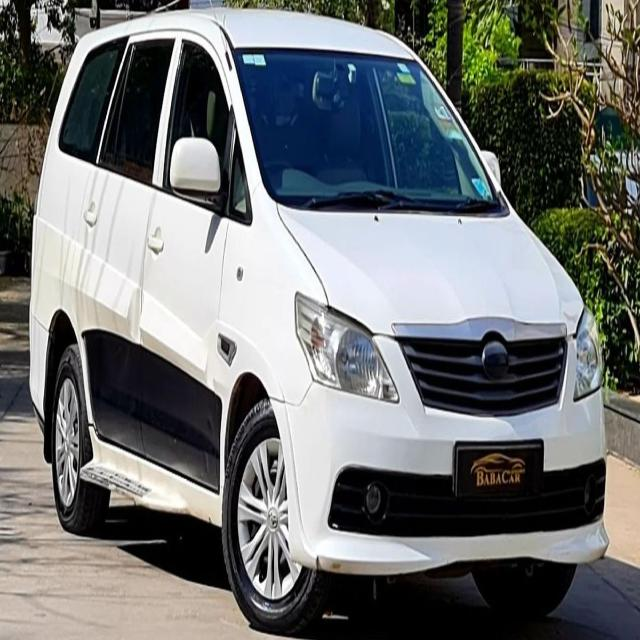light_vehicle: (27, 5, 610, 628)
